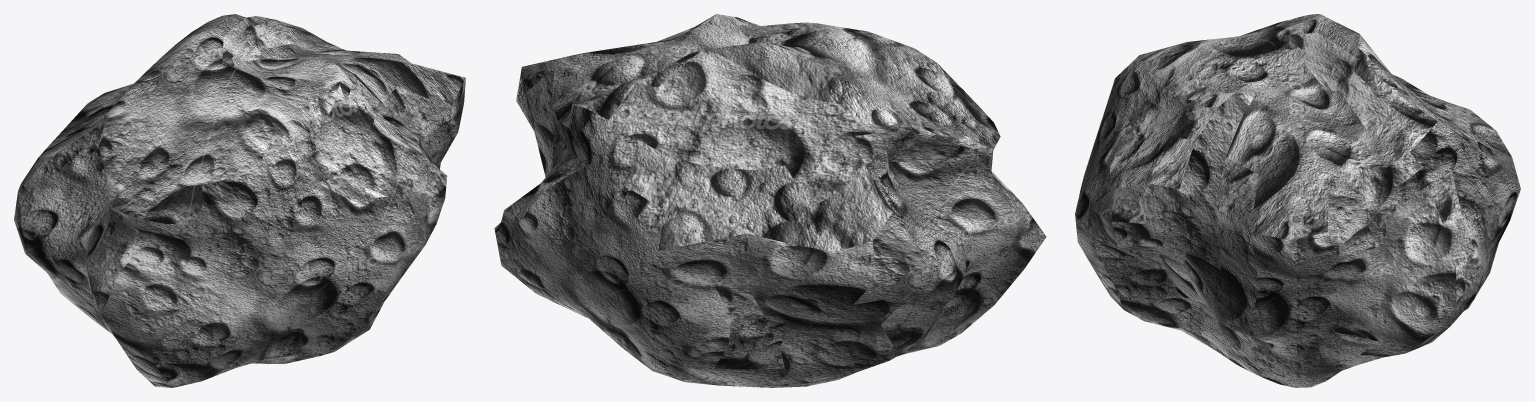
The model's file is asteroide_4.FBX.
The picture shows the model from 3 angles, left to right: view 1: azimuth 30°, elevation 25°; view 2: azimuth 150°, elevation 25°; view 3: azimuth 270°, elevation 25°; orthographic projection. The views are drawn at different scales.
Parts seen in each view (by area): view 1: asteroide_1; view 2: asteroide_1; view 3: asteroide_1.
Boxes of the visible parts, box(x1,y1,x2,y2) form: asteroide_1: box(14, 14, 465, 387); asteroide_1: box(494, 14, 1046, 387); asteroide_1: box(1075, 14, 1520, 387).
Bounding box in the file's own units: 355 × 245 × 309.
1 material, 1 textured.
